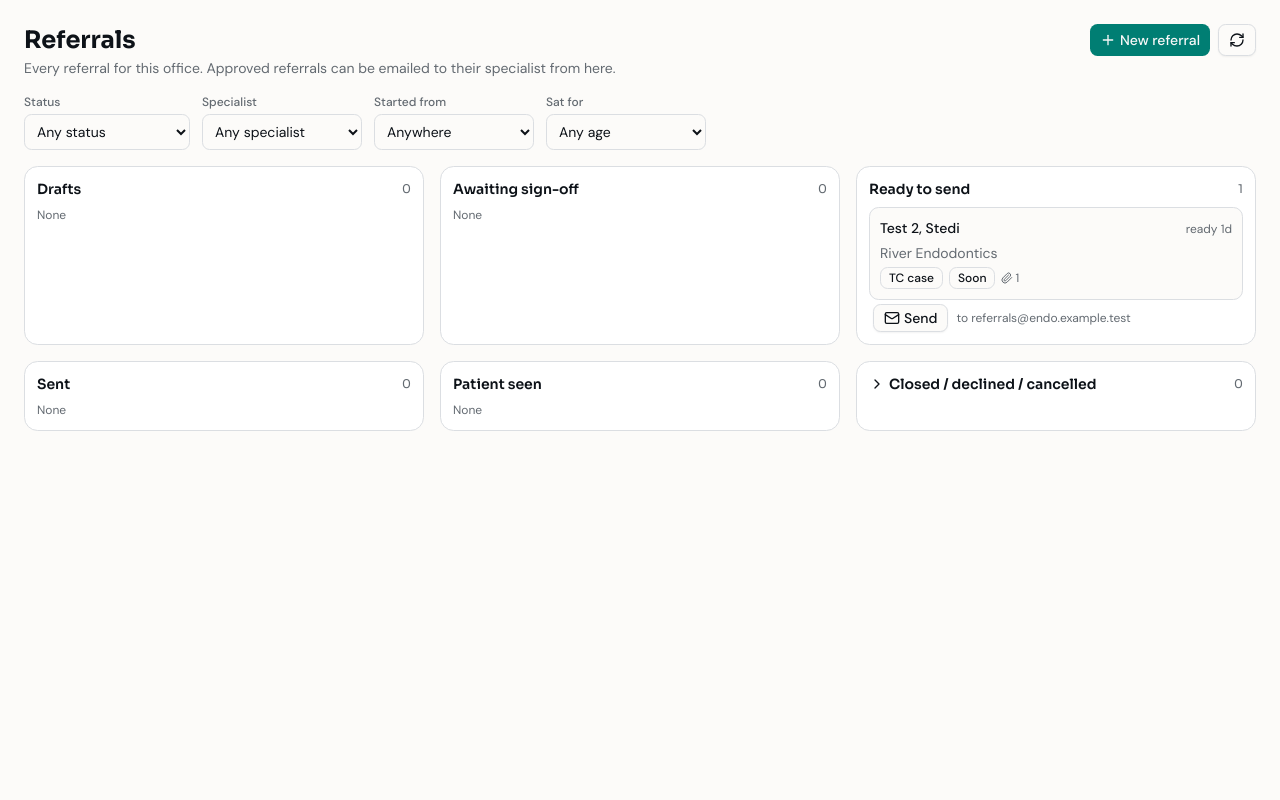
Test: the detail panel › after a conflict the button is disabled: the email already went out
This screenshot has width=1280, height=800.
Click the button with test id "tc-hub-card" at (920, 228), box [869, 207, 1243, 300]
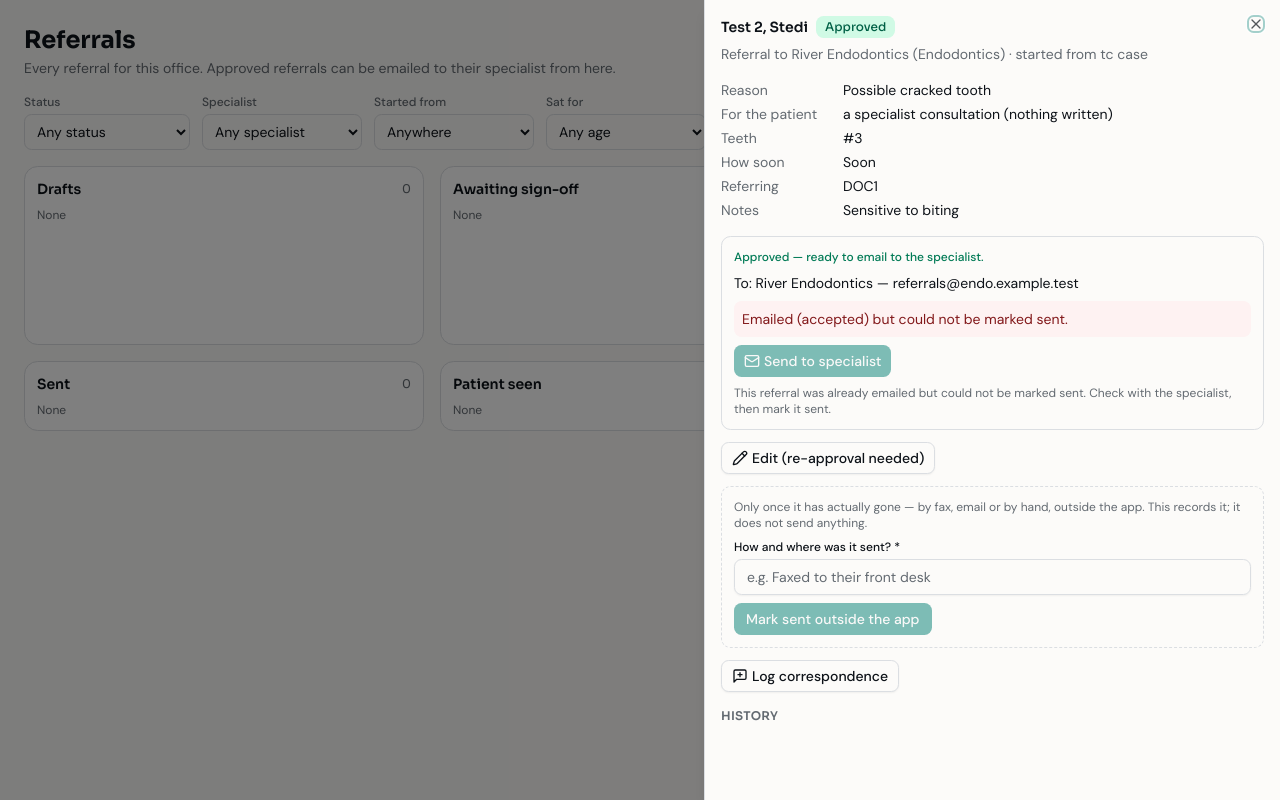
Expected: the button with test id "tc-hub-send-button" is disabled, [734, 345, 892, 377]
Expected: the text with test id "tc-hub-send-conflict" shows "could not be marked sent", [742, 310, 1068, 328]
Expected: the text with test id "tc-hub-send-blocked" shows "already emailed", [734, 385, 1232, 417]
